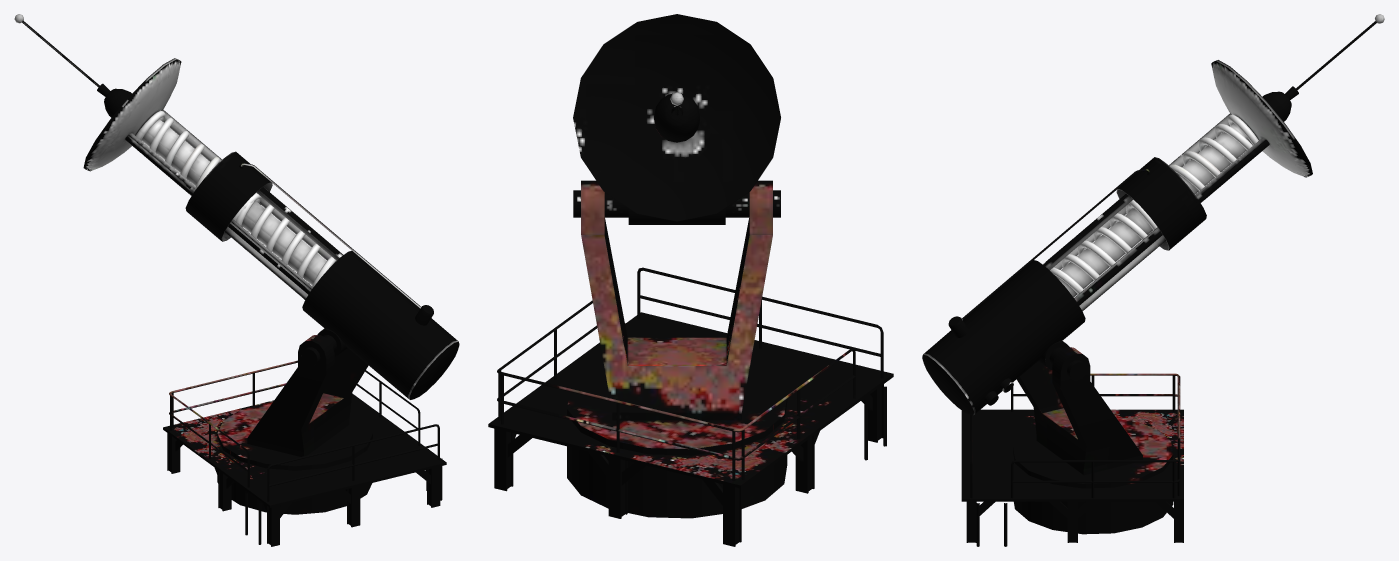
3 renders of one model, left to right at view 1: azimuth 30°, elevation 25°; view 2: azimuth 150°, elevation 25°; view 3: azimuth 270°, elevation 25°, orthographic. The views are drawn at different scales.
Parts seen in each view (by area): view 1: body0_model0_lod0_mesh0; view 2: body0_model0_lod0_mesh0; view 3: body0_model0_lod0_mesh0.
Part boxes in pixels (x1,y1,x2,y2): body0_model0_lod0_mesh0: (14, 14, 459, 546); body0_model0_lod0_mesh0: (488, 14, 893, 546); body0_model0_lod0_mesh0: (922, 14, 1384, 546).
Size of the model in its own units: 229 by 363 by 366.
Materials: 1 (1 with a texture image).
